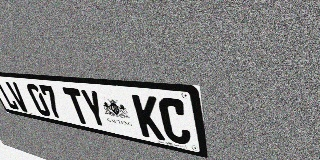0: (25, 83, 52, 117)
7: (38, 85, 66, 120)
C: (157, 97, 192, 146)
K: (131, 94, 165, 141)
L: (0, 80, 20, 111)
T: (62, 87, 92, 125)
V: (5, 81, 31, 113)
Y: (79, 89, 110, 129)
